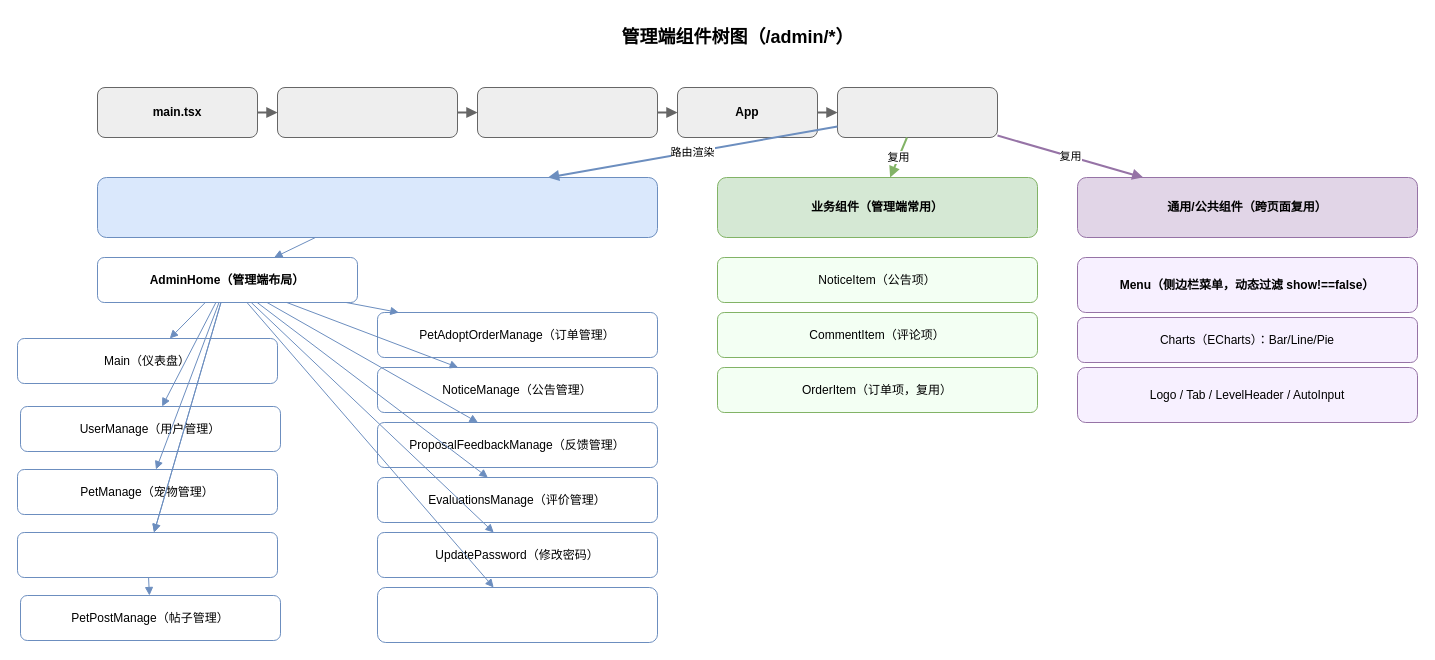
Some shapes in this 1435 by 660 pixel diagram are drawn without their labels. Each missing label, with the centre of its shape:
ConfigProvider: pixel 367 112
Outlet: pixel 917 112
PetTypeManage（宠物类型管理）: pixel 147 555
RouterProvider: pixel 567 112
ViewPetDetailAdmin（管理员查看宠物详情）: pixel 517 614
管理端页面级组件（views/admin/*）: pixel 377 207
